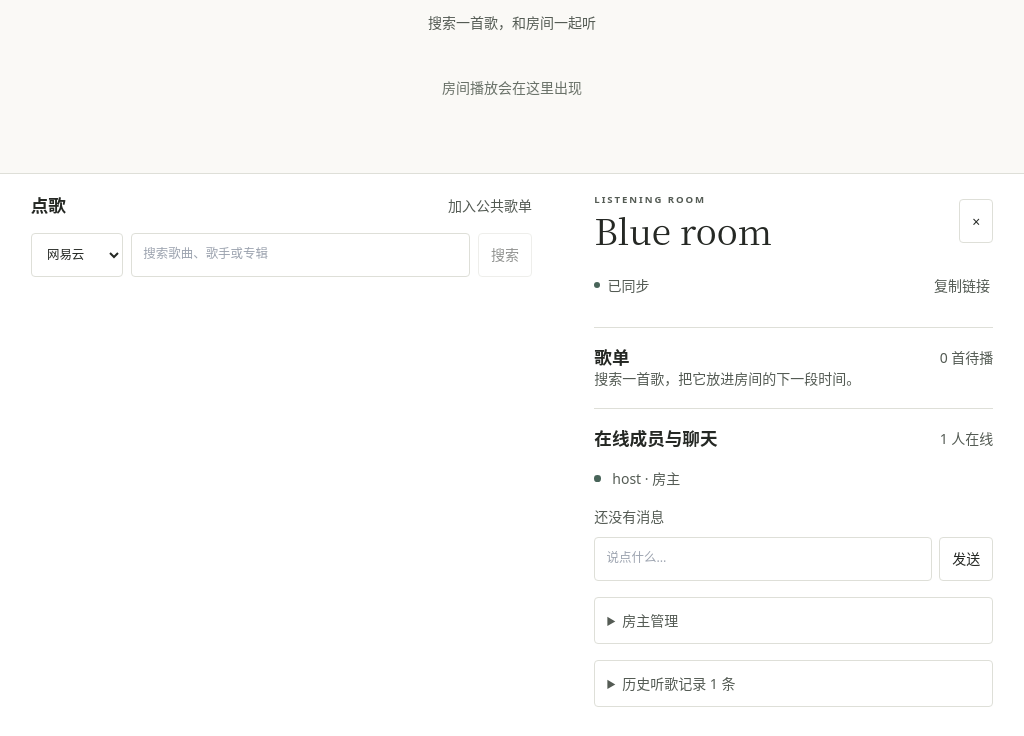
Scenario: unified room catalog integration › loads durable room history inside the native control panel
(page scrolled)
Click the heading "历史听歌记录 1 条" at (679, 683), box [622,674,736,693]
(page scrolled)
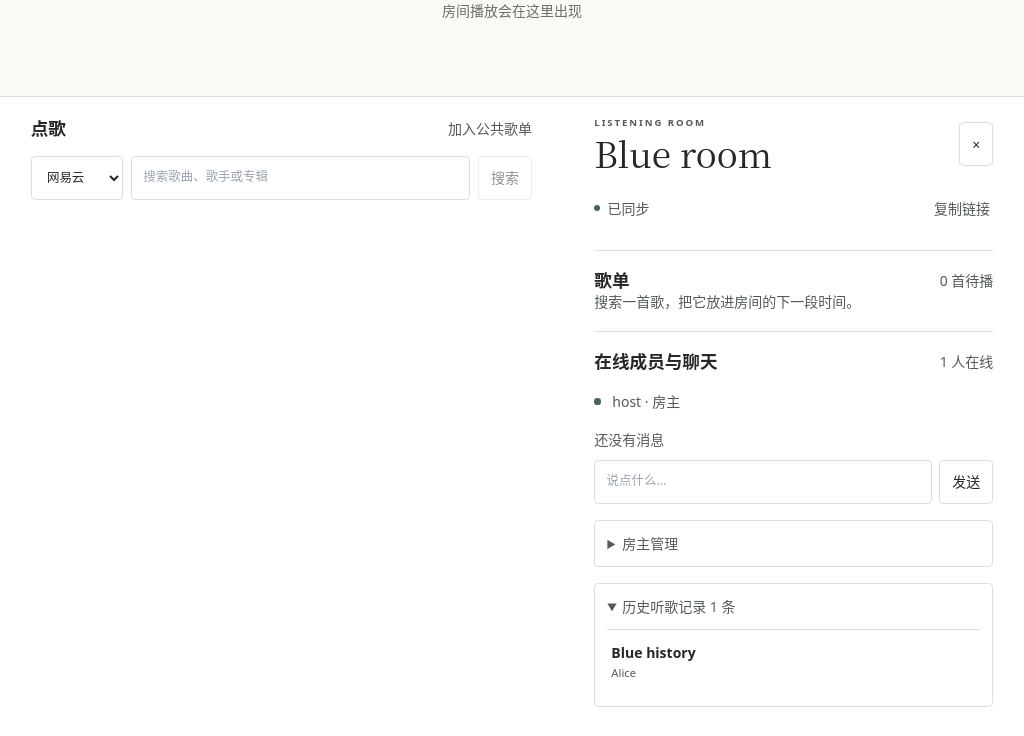
Now the button with aria-label "重新加入《Blue history》" is shown, box [607,639,980,685]
